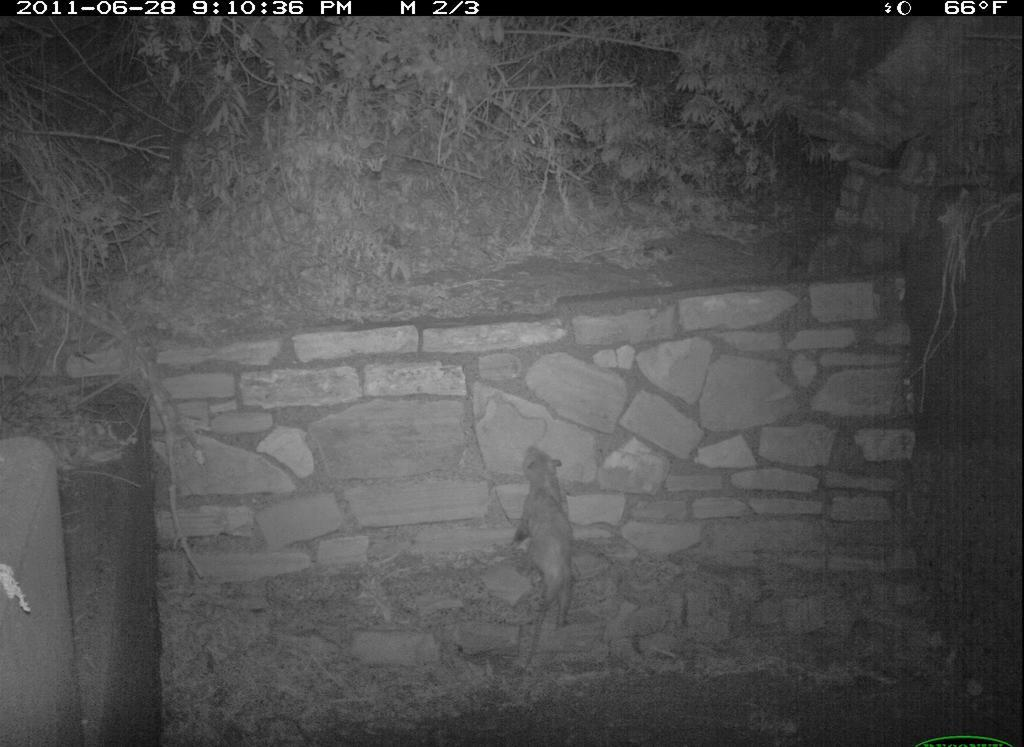opossum: (504, 440, 585, 683)
